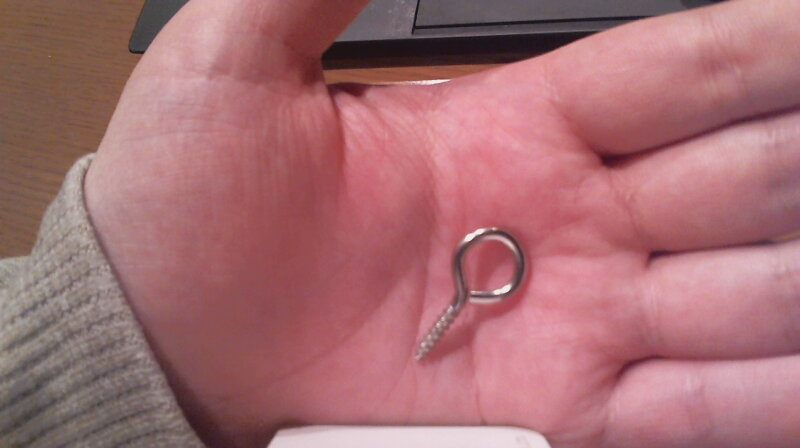O001: (409, 222, 532, 364)
